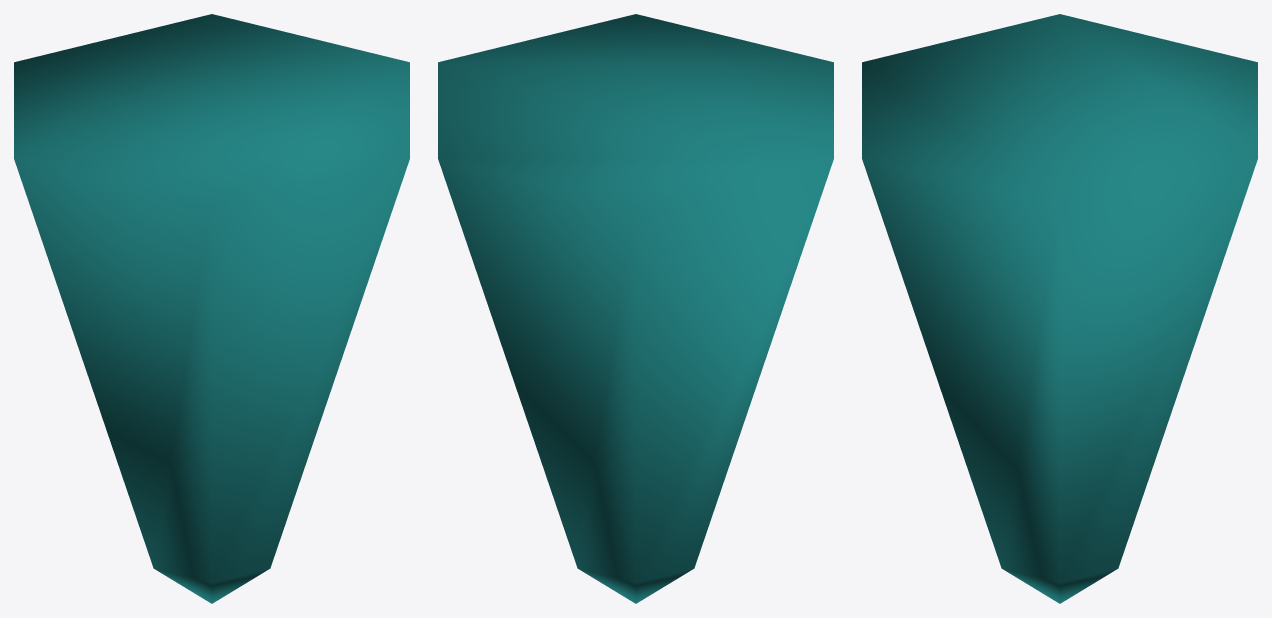
File: shuttlecock_collider.fbx
The picture shows the model from 3 angles, left to right: view 1: azimuth 30°, elevation 25°; view 2: azimuth 150°, elevation 25°; view 3: azimuth 270°, elevation 25°; orthographic projection.
Visible parts, largest first — view 1: shuttlecock_collider; view 2: shuttlecock_collider; view 3: shuttlecock_collider.
Part boxes in pixels (<box>): shuttlecock_collider: <box>14,14,409,603</box>; shuttlecock_collider: <box>438,14,833,603</box>; shuttlecock_collider: <box>862,14,1257,603</box>.
Size of the model in its own units: 7.47 by 8.9 by 6.47.
